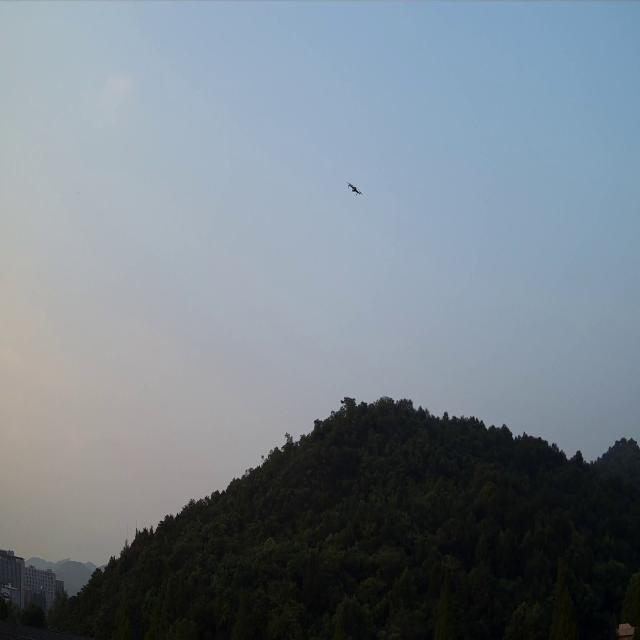UAV: (345, 178, 363, 197)
